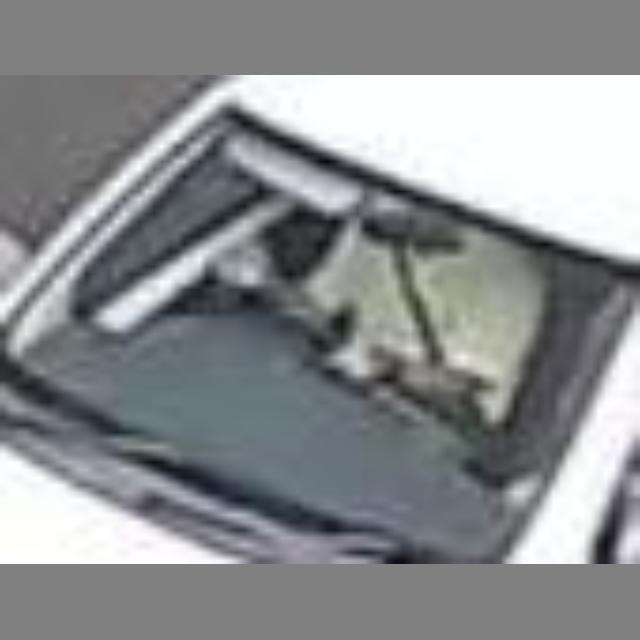pakai: (256, 195, 535, 406)
